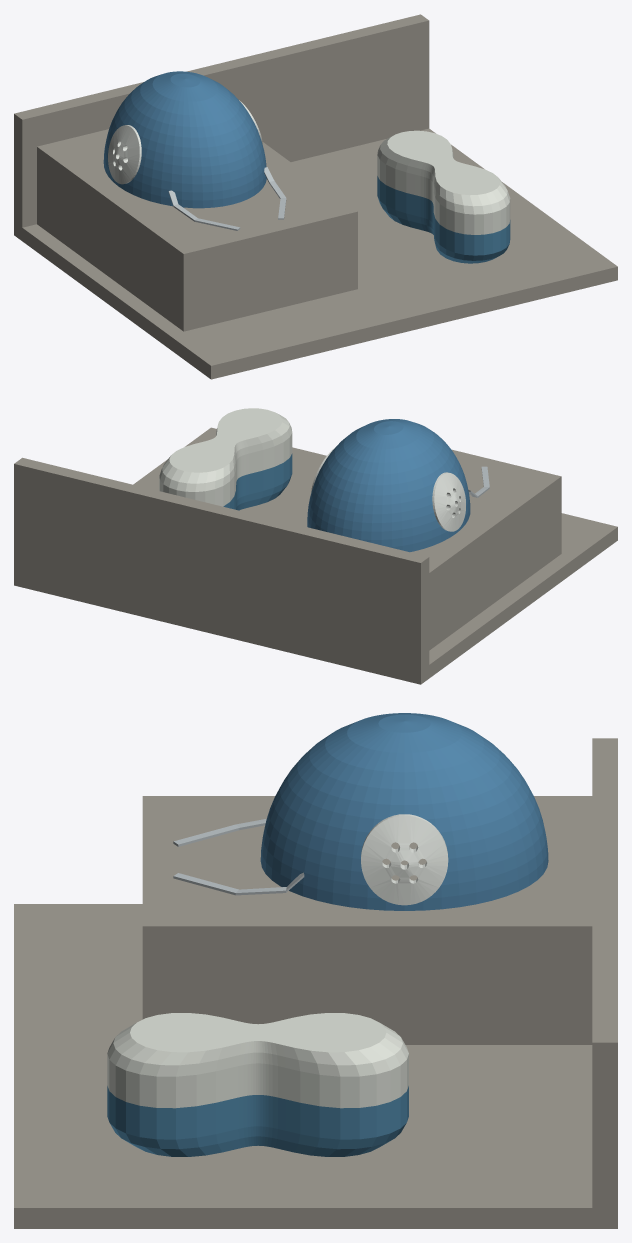
3 renders of one model, top to bottom at view 1: azimuth 30°, elevation 25°; view 2: azimuth 150°, elevation 25°; view 3: azimuth 270°, elevation 25°, orthographic. The views are drawn at different scales.
Visible parts, largest first — view 1: SceneWholeConnectedFloorTerraceAndRearSpine, WholeThinOpenDomeWithTwoSideApertures, WholeContinuousTwinLobedWaistedFloatBody, WholeLeftSevenHoleEarCover; view 2: SceneWholeConnectedFloorTerraceAndRearSpine, WholeThinOpenDomeWithTwoSideApertures, WholeContinuousTwinLobedWaistedFloatBody, WholeLeftSevenHoleEarCover; view 3: SceneWholeConnectedFloorTerraceAndRearSpine, WholeContinuousTwinLobedWaistedFloatBody, WholeThinOpenDomeWithTwoSideApertures, WholeRightSevenHoleEarCover, WholeRightForwardLaidChinTie.
Part boxes in pixels (x1,y1,x2,y2): SceneWholeConnectedFloorTerraceAndRearSpine: (14,14,617,379); WholeThinOpenDomeWithTwoSideApertures: (103,71,266,208); WholeContinuousTwinLobedWaistedFloatBody: (377,130,510,263); WholeLeftSevenHoleEarCover: (108,125,141,184); SceneWholeConnectedFloorTerraceAndRearSpine: (14,427,617,684); WholeThinOpenDomeWithTwoSideApertures: (307,419,470,552); WholeContinuousTwinLobedWaistedFloatBody: (159,408,292,510); WholeLeftSevenHoleEarCover: (432,472,465,531); SceneWholeConnectedFloorTerraceAndRearSpine: (14,738,617,1228); WholeContinuousTwinLobedWaistedFloatBody: (107,1013,408,1156); WholeThinOpenDomeWithTwoSideApertures: (260,713,548,910); WholeRightSevenHoleEarCover: (361,814,448,905); WholeRightForwardLaidChinTie: (173,872,304,895).
Size of the model in its own units: 0.56 by 0.24 by 0.47.
